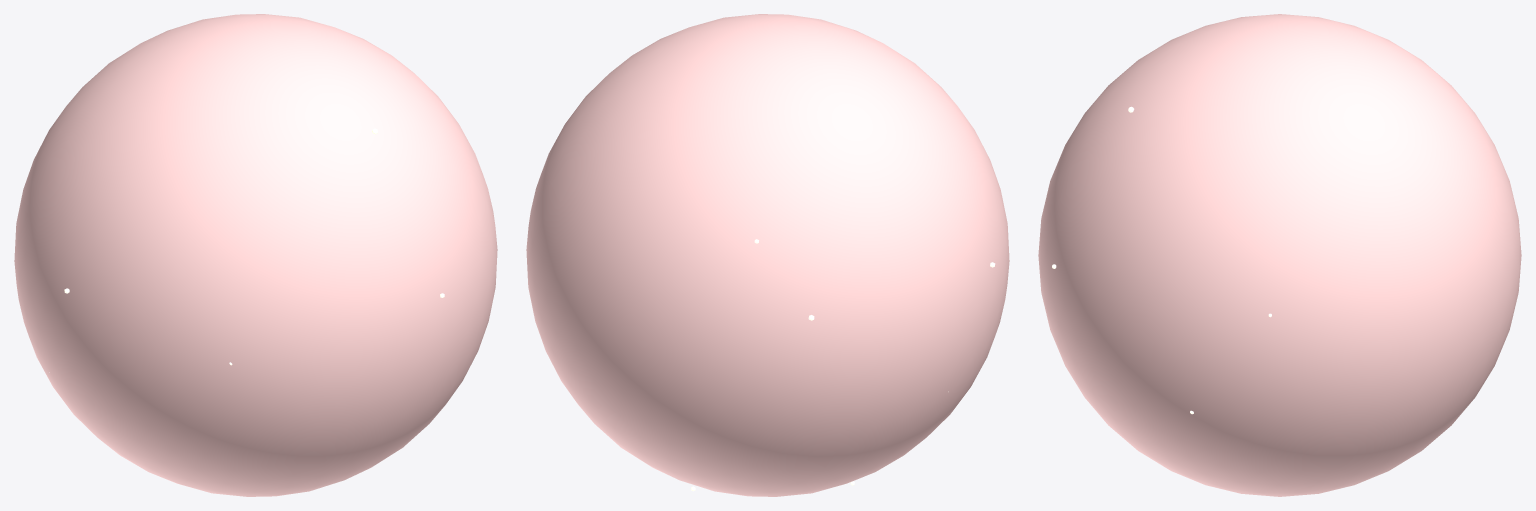
Rendered from planet_ember.glb.
3 views of the same model, side by side, from view 1: azimuth 30°, elevation 25°; view 2: azimuth 150°, elevation 25°; view 3: azimuth 270°, elevation 25° (orthographic).
Parts seen in each view (by area): view 1: Atmosphere; view 2: Atmosphere; view 3: Atmosphere.
Part boxes in pixels (bbox=[...]): Atmosphere: bbox=[14, 14, 497, 496]; Atmosphere: bbox=[526, 14, 1009, 496]; Atmosphere: bbox=[1038, 14, 1521, 496].
Bounding box in the file's own units: 2.23 × 2.2 × 2.2.
